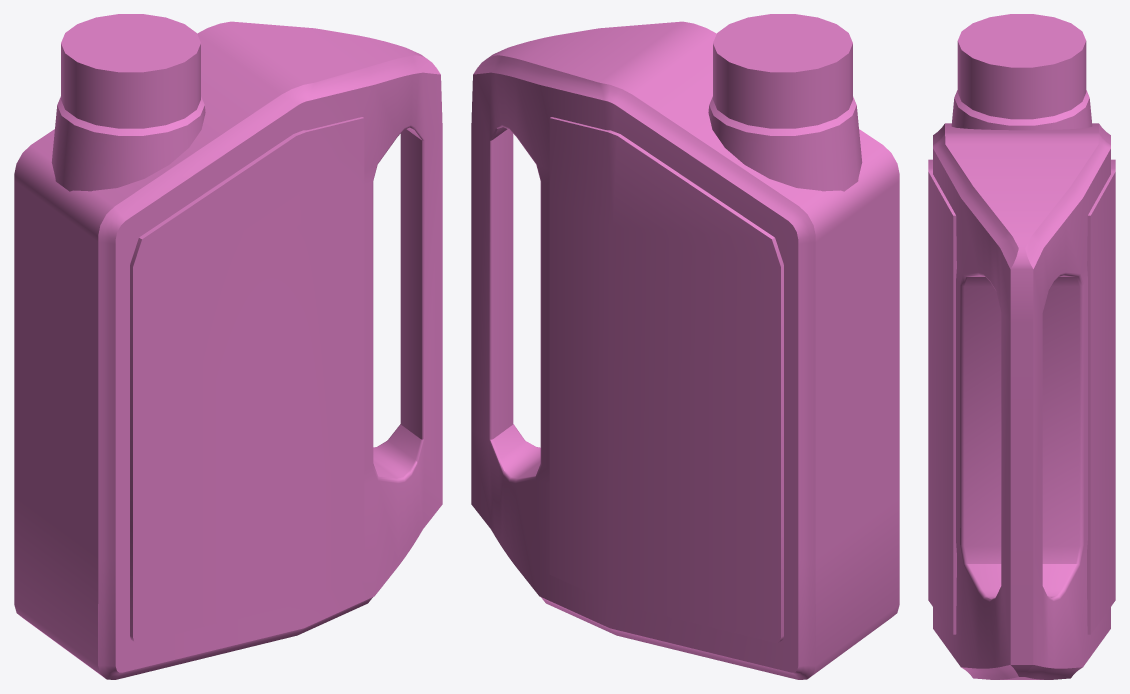
Rendered from FBX_OilBottle_01.fbx.
3 renders of one model, left to right at view 1: azimuth 30°, elevation 25°; view 2: azimuth 150°, elevation 25°; view 3: azimuth 270°, elevation 25°, orthographic. The views are drawn at different scales.
Visible parts, largest first — view 1: M_OilBottle_01; view 2: M_OilBottle_01; view 3: M_OilBottle_01.
Boxes of the visible parts, <box> form: M_OilBottle_01: <box>14,14,442,679</box>; M_OilBottle_01: <box>471,14,899,679</box>; M_OilBottle_01: <box>928,14,1115,679</box>.
Size of the model in its own units: 0.2494 by 0.3712 by 0.1159.
